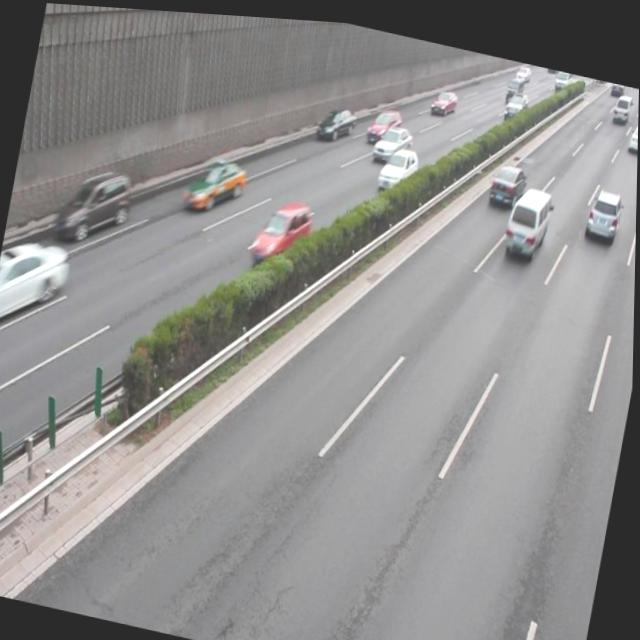car: (54, 160, 136, 253), (0, 231, 72, 335), (248, 189, 314, 269), (182, 148, 248, 218), (583, 176, 624, 238), (485, 152, 529, 207), (376, 138, 420, 190), (314, 97, 358, 144), (371, 115, 413, 160)
truck: (500, 174, 554, 258)
